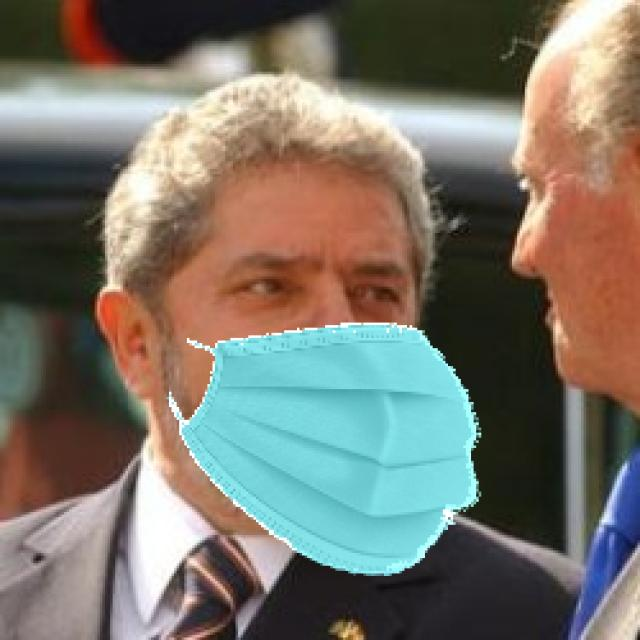mask: (169, 316, 515, 580)
